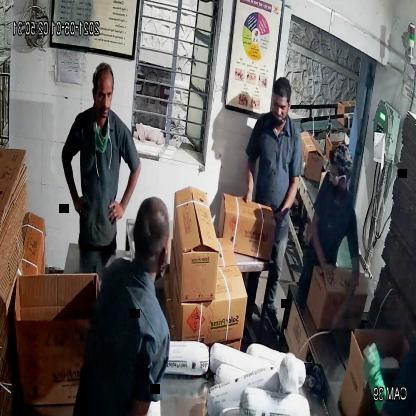goggles: (326, 164, 352, 188)
no_goggles: (89, 81, 116, 108), (269, 93, 297, 117)
